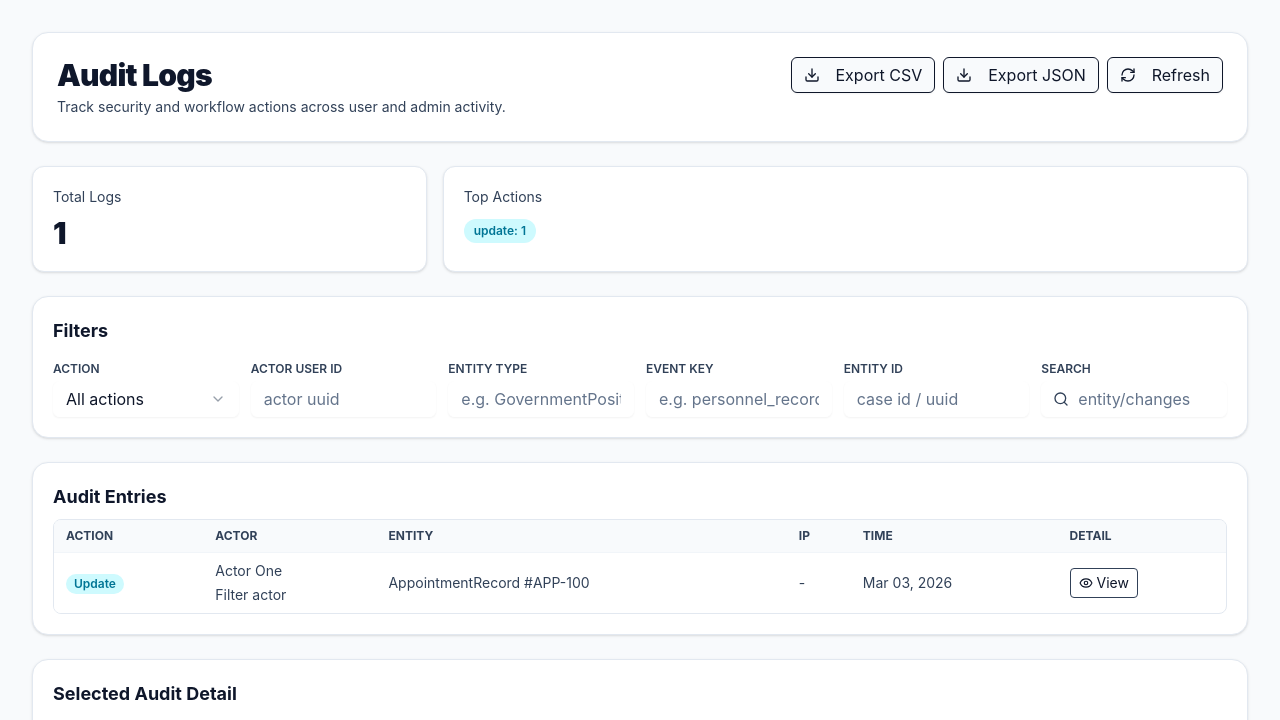
Test: AuditLogsPage export actions › filters by actor using by_user endpoint when row action is clicked
The image size is (1280, 720).
Click the button "Filter actor" at (251, 595), box [215,585,286,605]
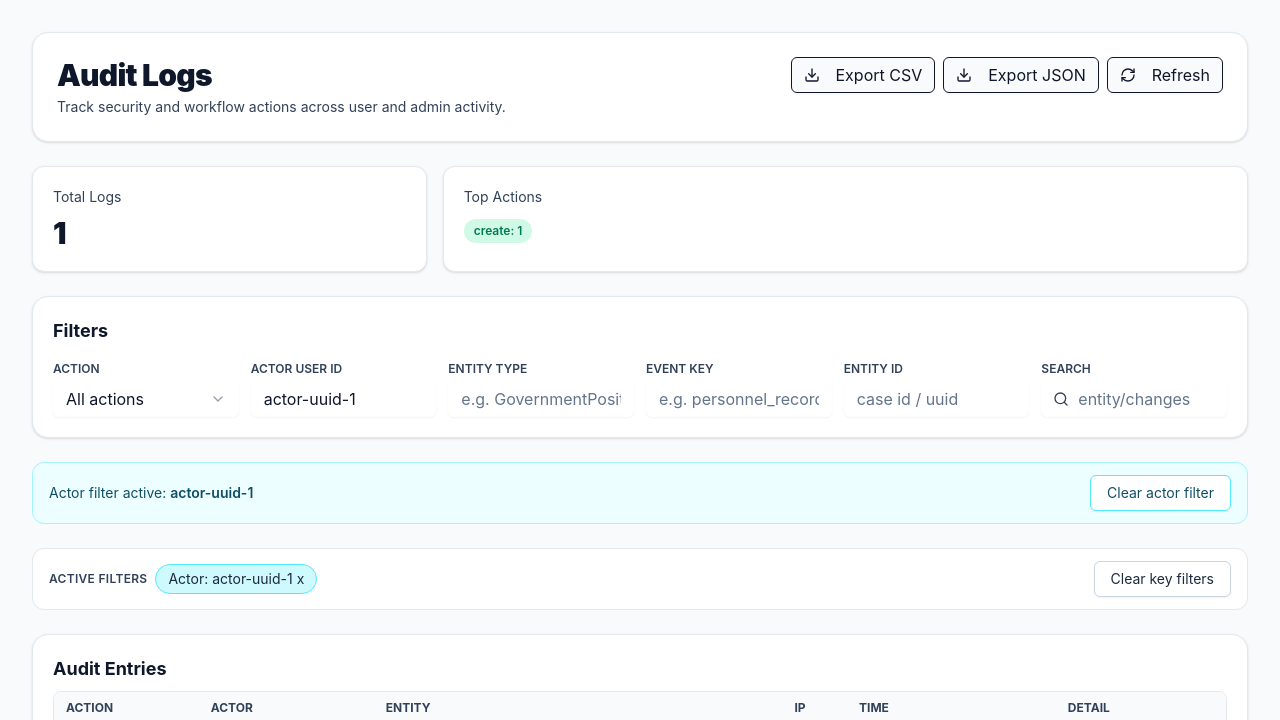
Check: the text "Actor filter active: actor-uuid-1" is shown, box [49,483,253,503]
Click the button "Clear actor filter" at (1161, 493), box [1090,475,1231,511]
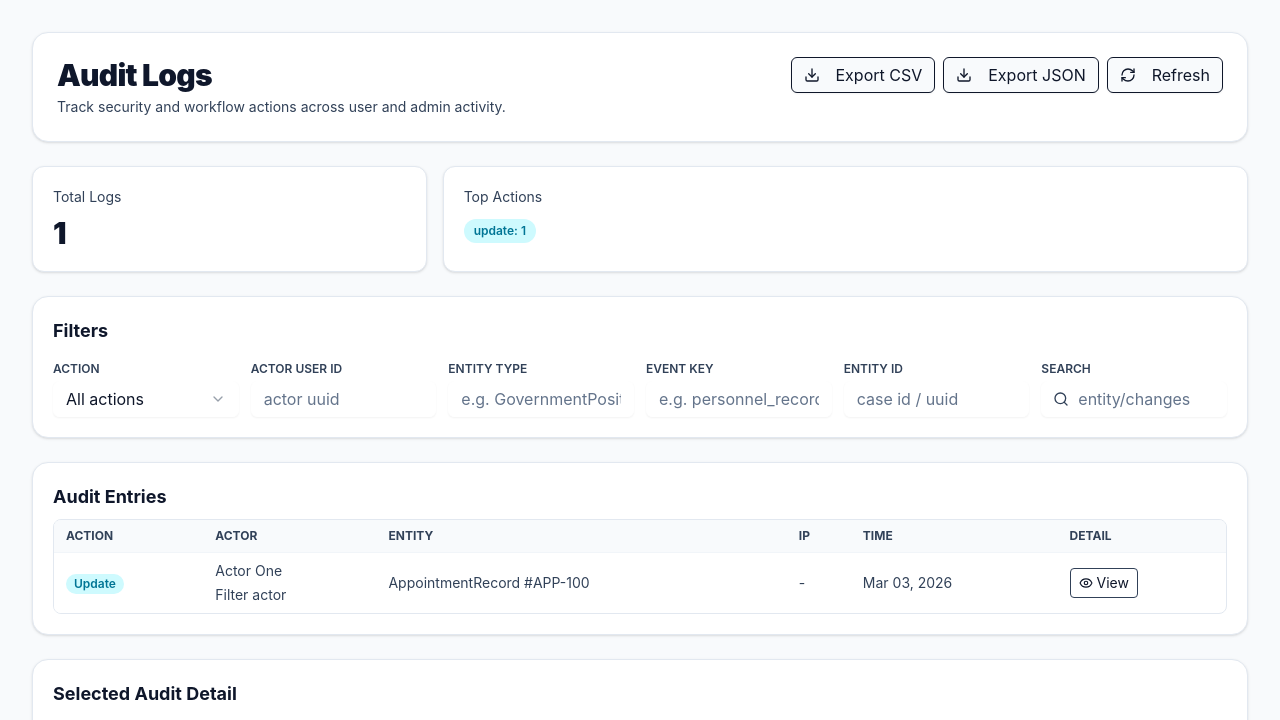
Check: the field labelled "Actor User ID" is empty, box [251,381,436,417]
